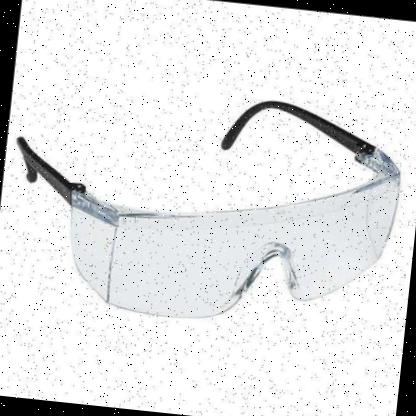oculos: (0, 63, 413, 354)
